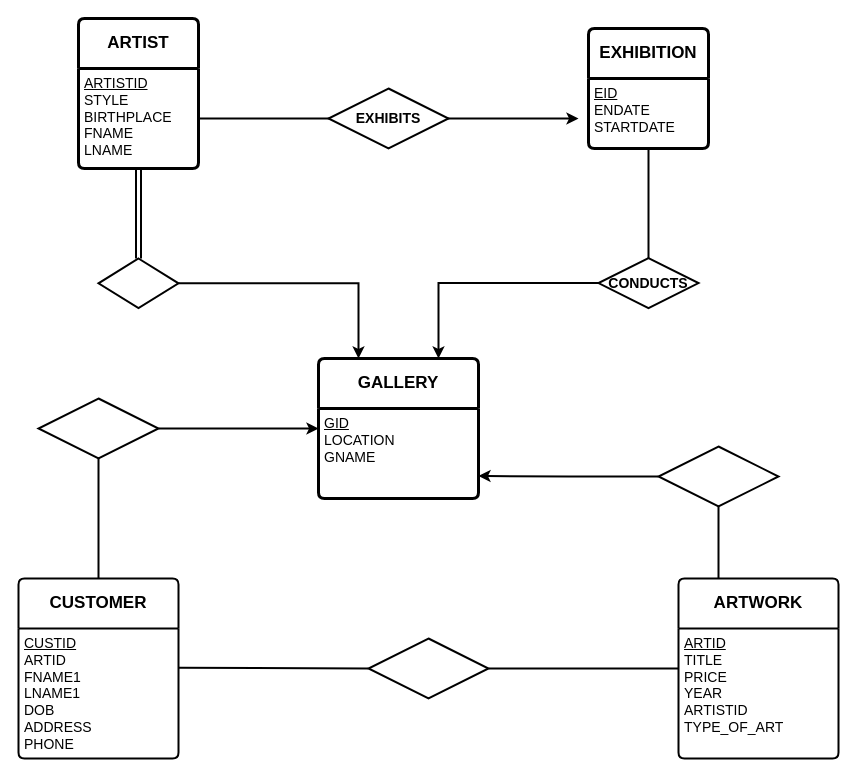
Image size: 856x777. Some labels were removed from this diagram. Here are the shapes that lost their labels. From the top down, the centre of each, then its label:
point 138,283: HAS
point 98,428: CONTAINS
point 718,476: DISPLAYS
point 428,668: BUYS
